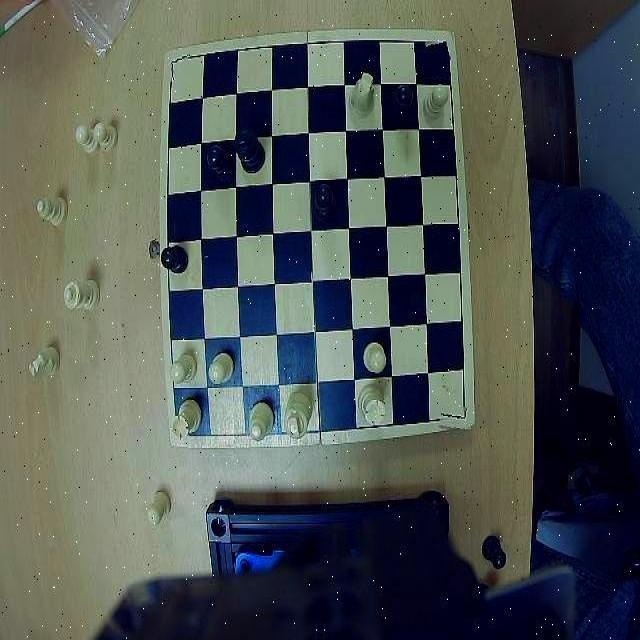chess-table-corners: (440, 404, 472, 436), (427, 34, 457, 66), (174, 425, 204, 452), (166, 52, 190, 80)
